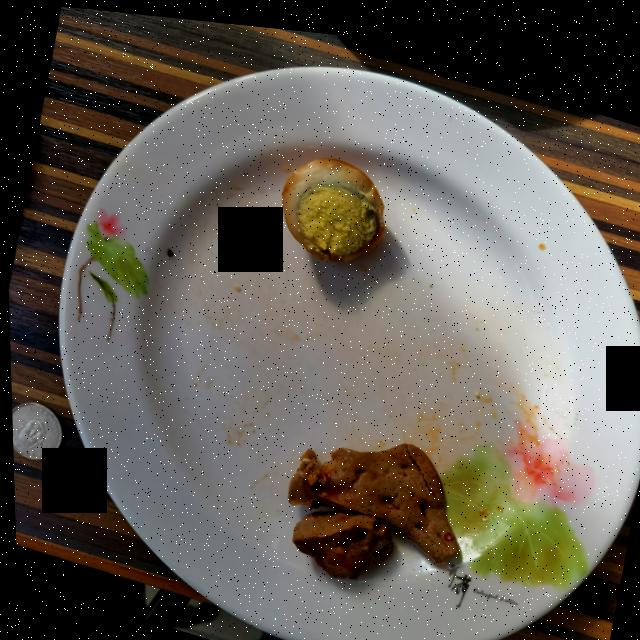coin: (10, 402, 59, 459)
pig liver: (284, 434, 455, 571)
soy egg: (280, 151, 383, 255)
